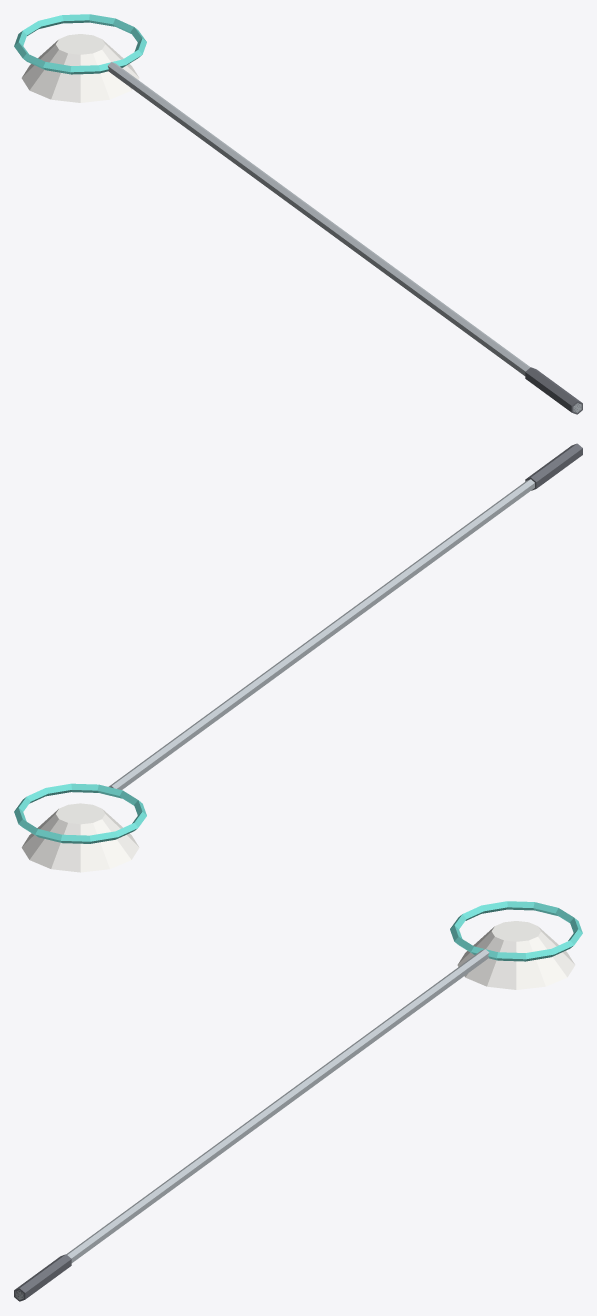
File: SkimmerNet.fbx
3 views of the same model, one above another, from view 1: azimuth 30°, elevation 25°; view 2: azimuth 150°, elevation 25°; view 3: azimuth 330°, elevation 25° (orthographic).
Visible parts, largest first — view 1: SkimmerNet; view 2: SkimmerNet; view 3: SkimmerNet.
Part boxes in pixels (x1,y1,x2,y2): SkimmerNet: (14,14,582,414); SkimmerNet: (14,443,582,872); SkimmerNet: (14,901,582,1301).
Bounding box in the file's own units: 0.43 × 0.144 × 3.41.
